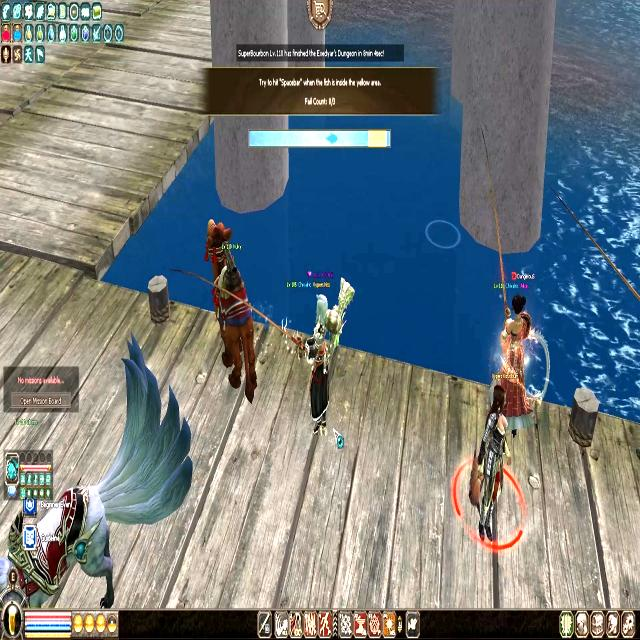fishes: (326, 132, 338, 144)
